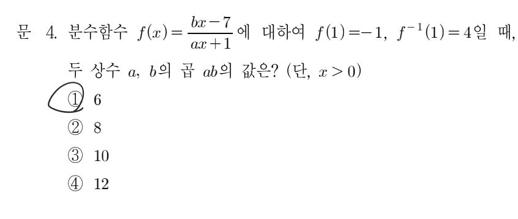1: (44, 80, 86, 113)
paper: (63, 173, 84, 193), (64, 146, 85, 166), (64, 117, 85, 137), (64, 89, 85, 109)
